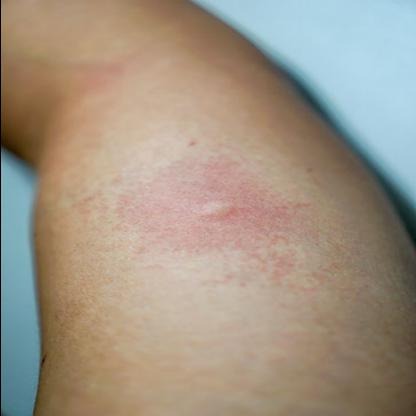Wasp: (180, 183, 258, 231)
